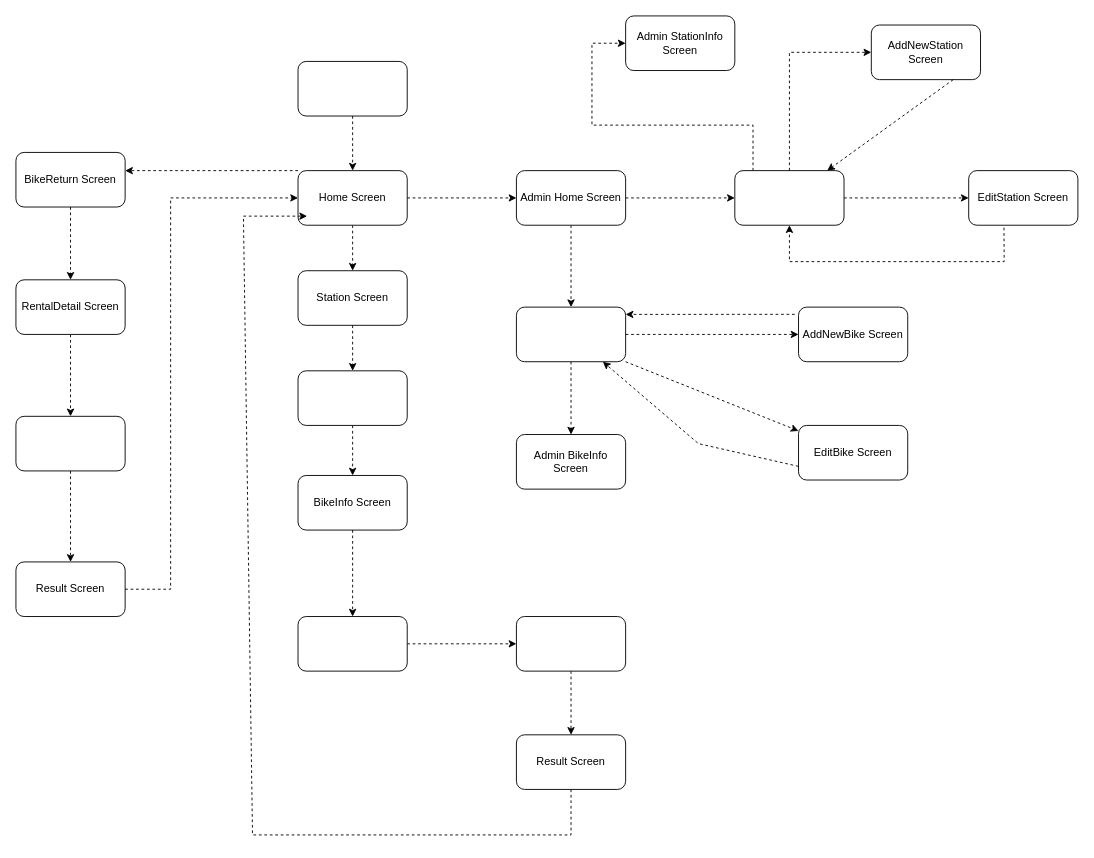
Some shapes in this 1094 by 858 pixel diagram are drawn without their labels. The centre of each missing label's shape, as x and y in pixels:
"Admin Bike Screen" belongs at (571,334).
"Admin Station Screen" belongs at (789,197).
"BikeRental Screen" belongs at (352,643).
"Payment Screen" belongs at (70,443).
"PaymentScreen" belongs at (571,643).
"Splash screen" belongs at (352,88).
"StationInfo Screen" belongs at (352,397).
